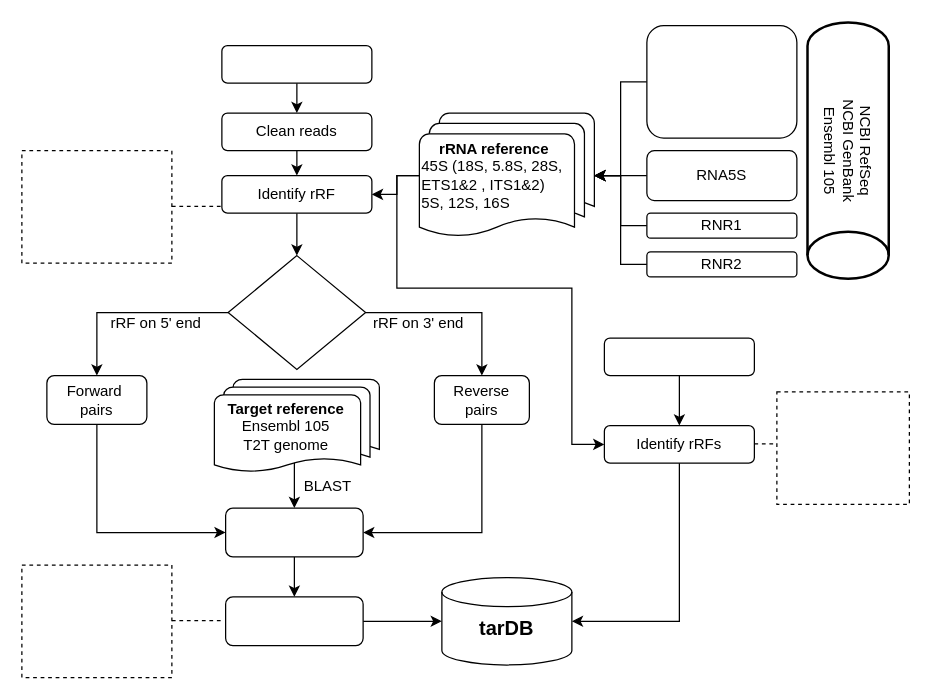
This 931x700 diagram has some shape labels left out. Here are the shapes that lost their labels. From the top down, the centre of each, then its label:
At (296,63): "Chimeric reads".
At (721,81): "RNA45SN1 RNA45SN2 RNA45SN3 RNA45SN4 RNA45SN5 U13369.1".
At (296,311): "Location of rRF in chimeric read?".
At (678,356): "PAR-CLIP reads".
At (293,532): "Target gene annotation".
At (293,621): "Pairs of rRFs and targets".
